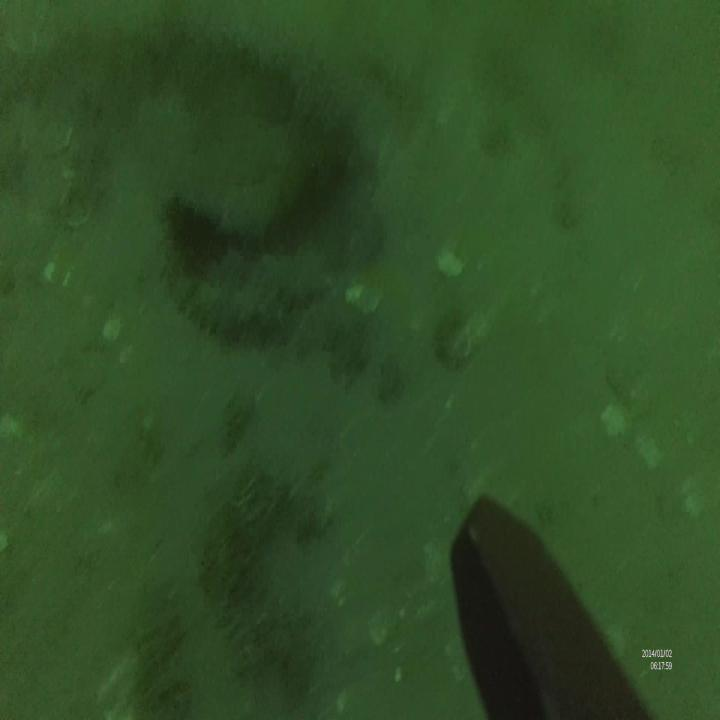holothurian: (160, 280, 286, 352)
